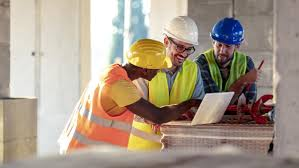hard hat: (126, 39, 172, 70), (161, 16, 199, 46), (210, 17, 244, 44)
high-vis: (58, 64, 134, 152), (127, 59, 198, 152), (202, 49, 247, 92)
